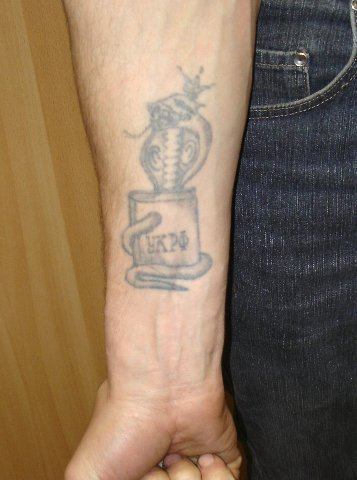tatu3_bukva: (145, 232, 193, 255)
tatu7_zmeya: (127, 66, 226, 188)
